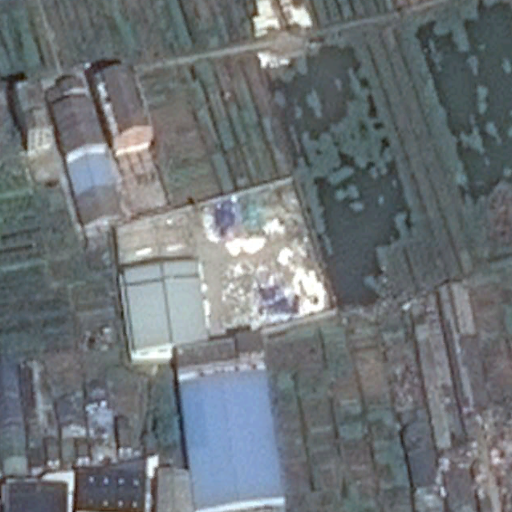msw: (202, 180, 330, 332)
